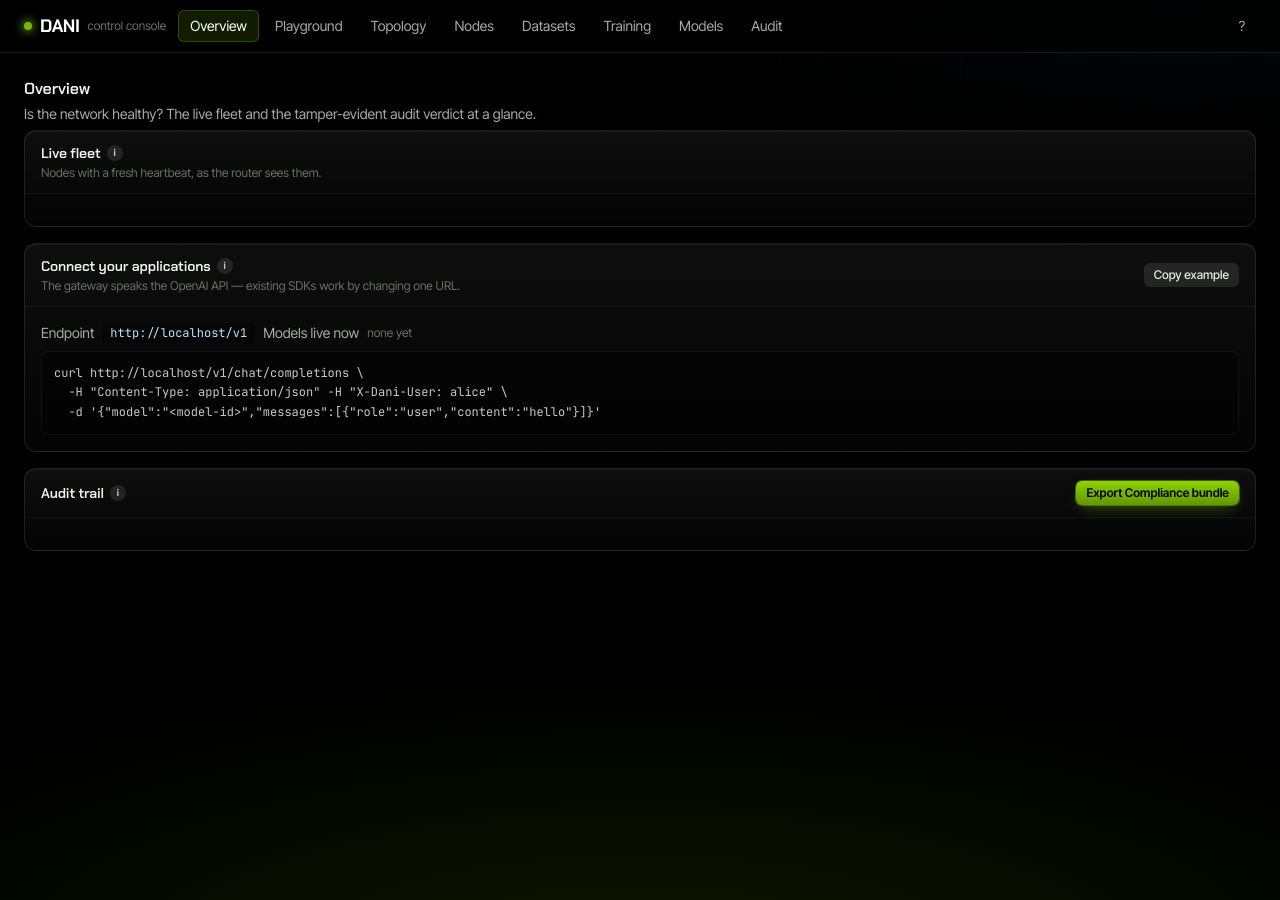
Test: DANI console › drives the 3-signer promotion workflow to available with detail expand
Click the tab "Models" at point(701, 26), box top-left (667, 10), bottom-right (735, 42)
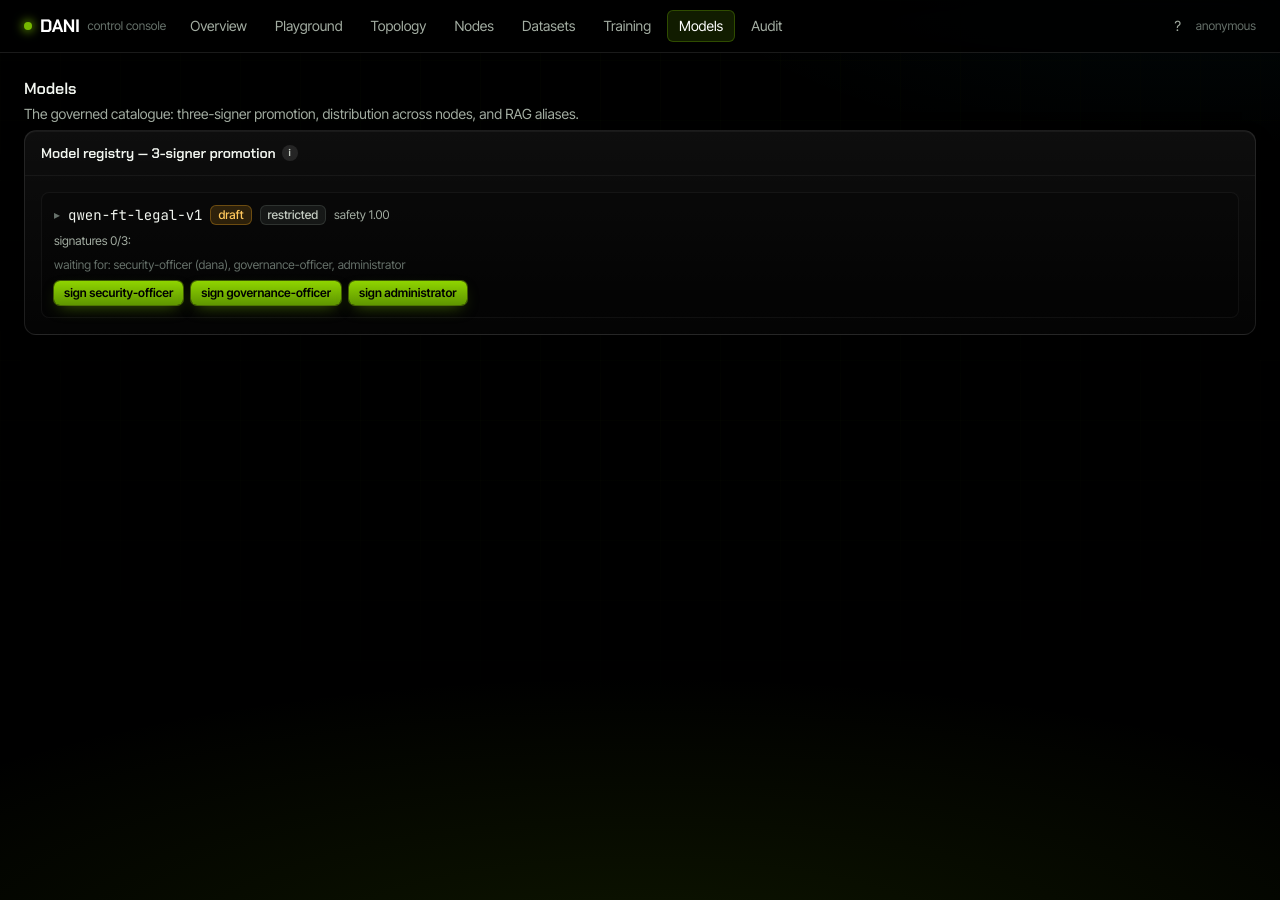
Click the button "sign security-officer" at point(119, 293), box top-left (54, 281), bottom-right (183, 305)
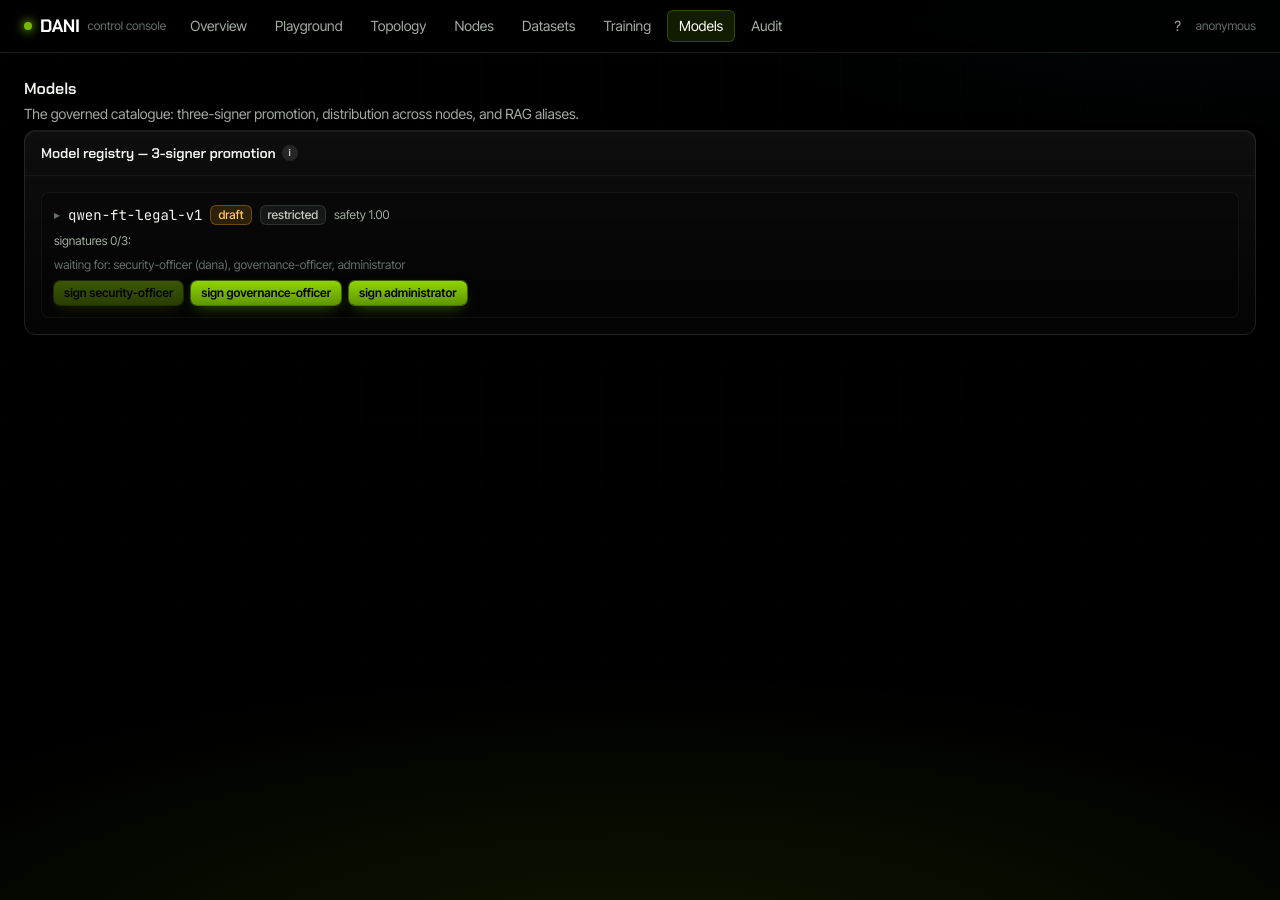
Click the button "sign governance-officer" at point(266, 293), box top-left (191, 281), bottom-right (341, 305)
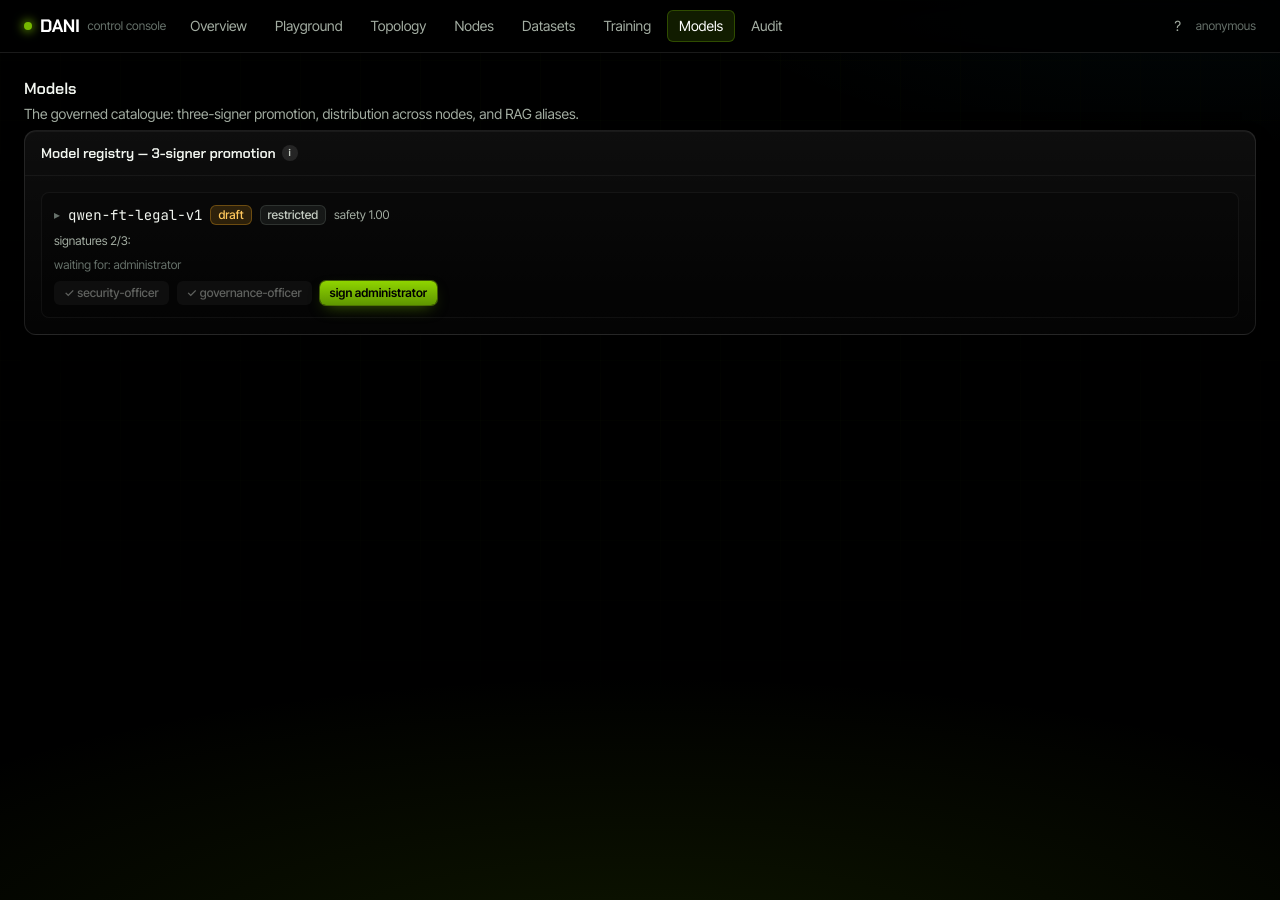
Click the button "sign administrator" at point(378, 293), box top-left (320, 281), bottom-right (437, 305)
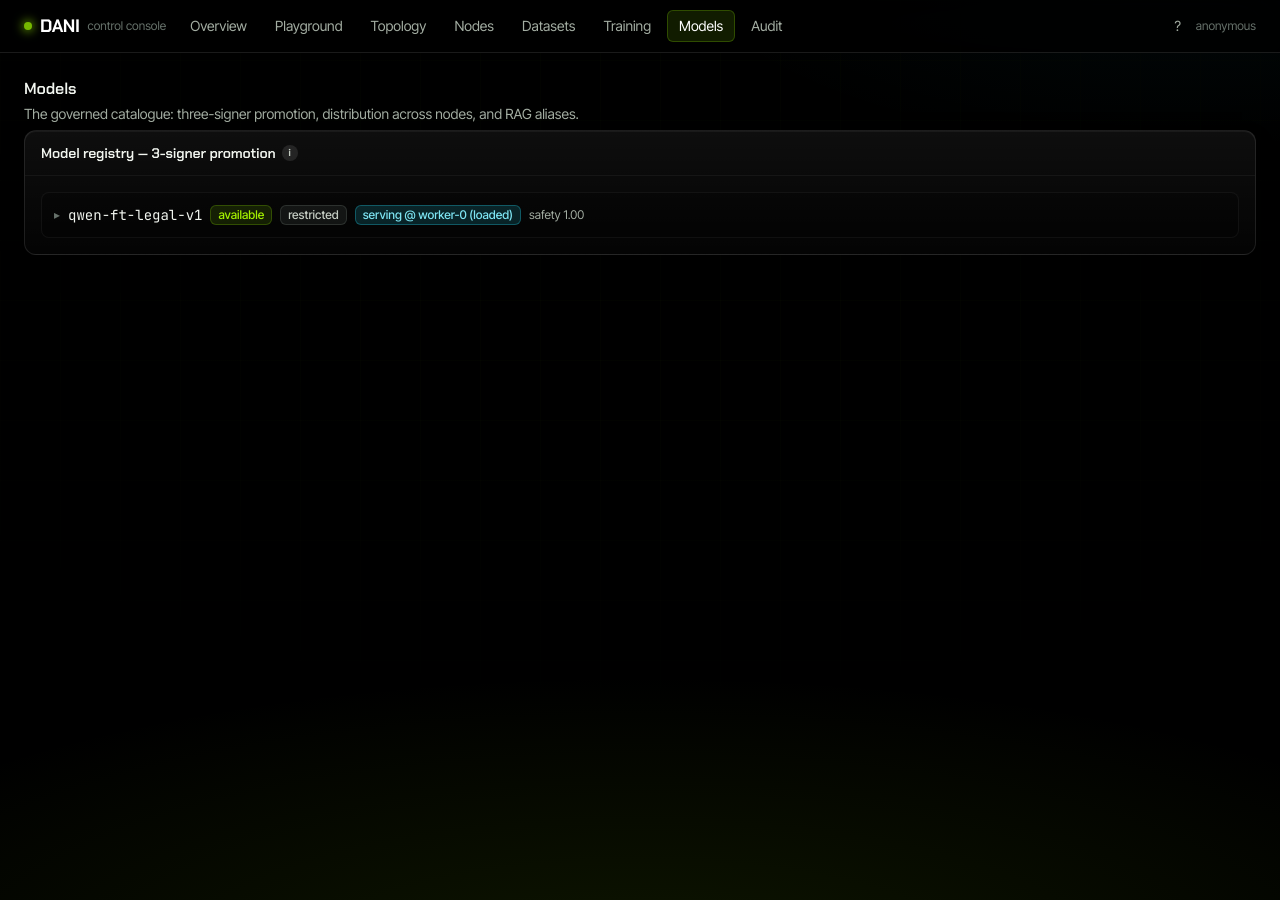
Expected: the text "available" is shown, top-left (210, 205), bottom-right (272, 225)
Expected: the text "serving @ worker-0 (loaded)" is shown, top-left (355, 205), bottom-right (521, 225)
# expand shows lineage + artifact hash + distribution controls
Click the button named "expand qwen-ft-legal-v1" at point(57, 215), box top-left (54, 207), bottom-right (60, 223)
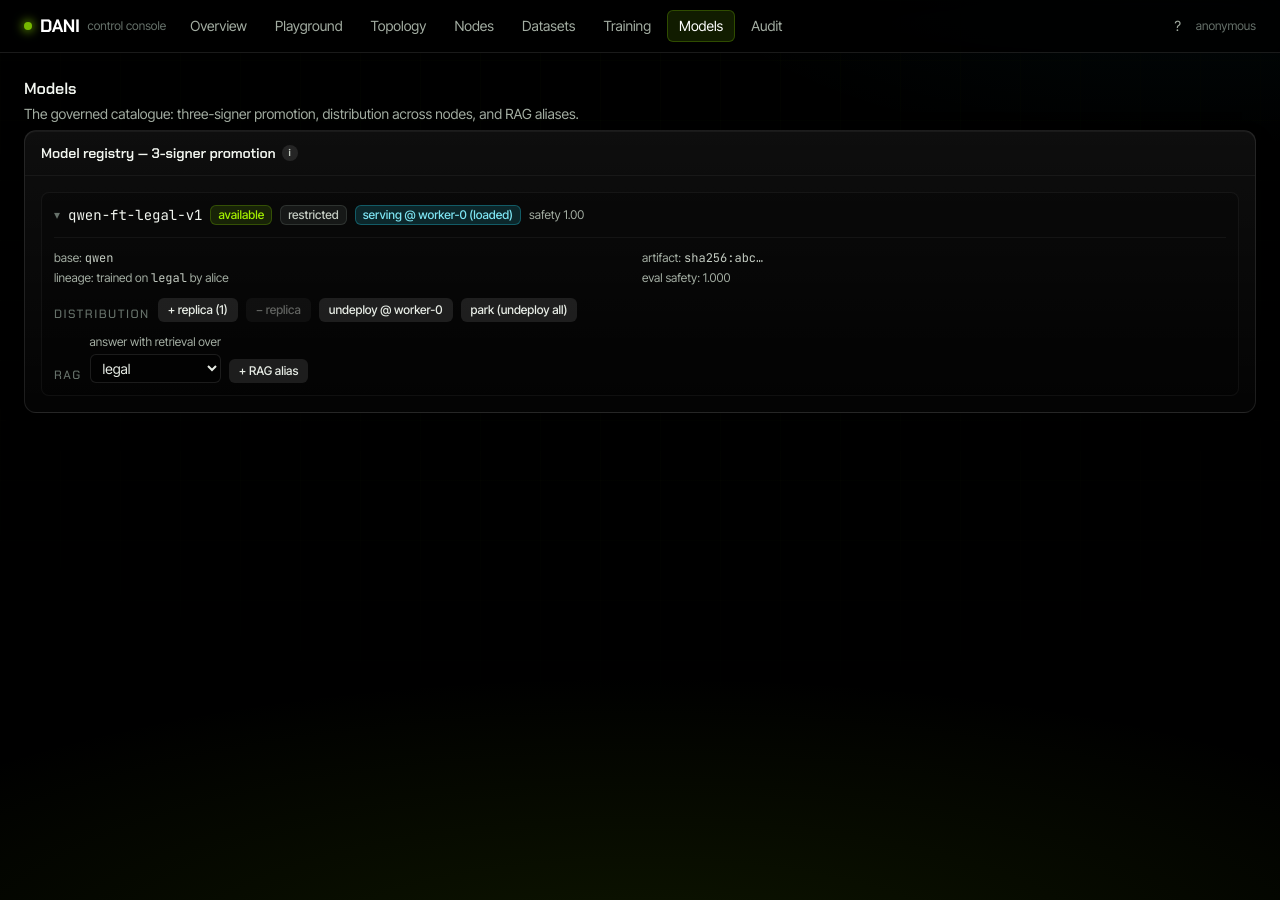
Expected: the text "lineage: trained on legal by alice" is shown, top-left (54, 270), bottom-right (229, 286)
Expected: the text "sha256:abc…" is shown, top-left (684, 250), bottom-right (763, 266)
Expected: the button "+ replica (1)" is shown, top-left (158, 298), bottom-right (238, 322)
